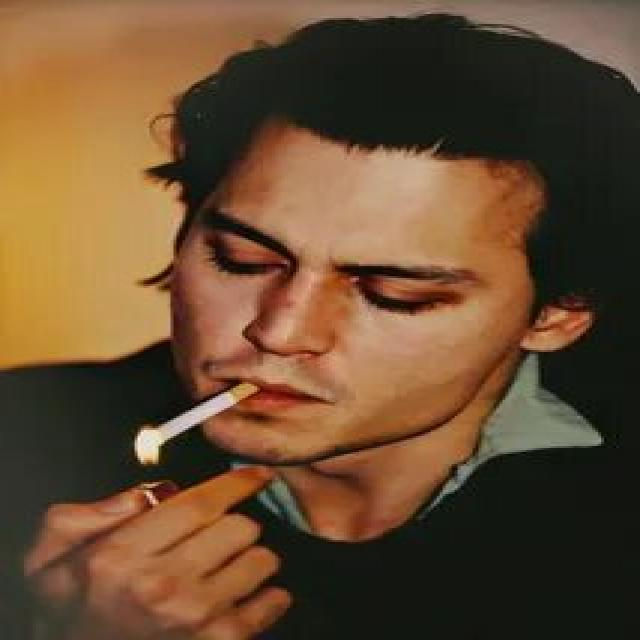cigarette: (135, 378, 269, 458)
